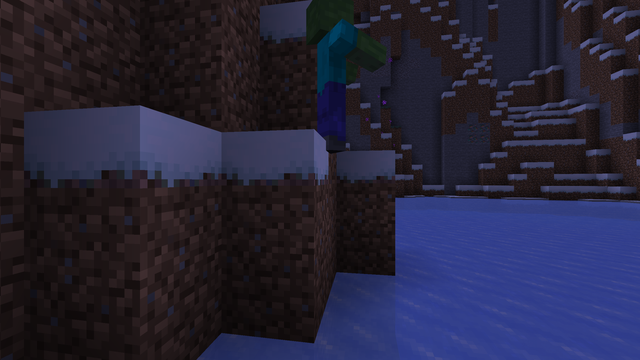zombies: (301, 0, 350, 154)
